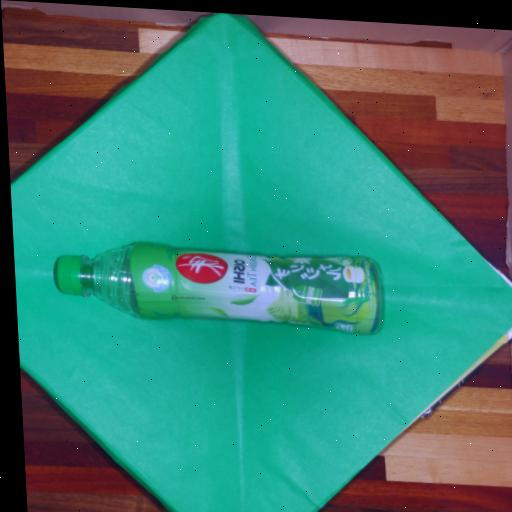bottle: (40, 220, 411, 355)
